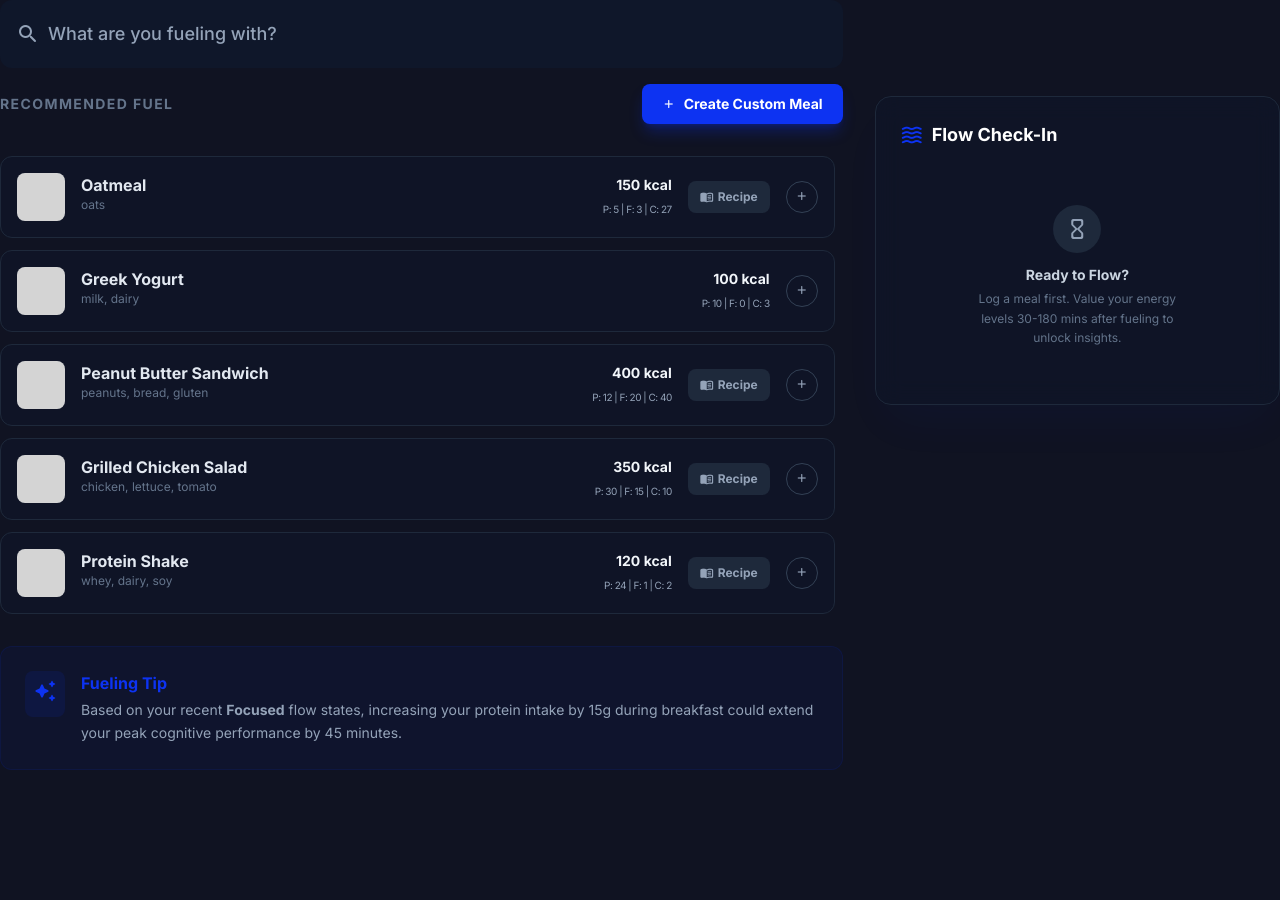
Test: FoodLogger Component › Interactions › shows premium gate when clicking "Create Custom Meal" as Free user
This screenshot has width=1280, height=900.
Click the button "Create Custom Meal".
click(742, 104)  # box 642,84 -> 843,124
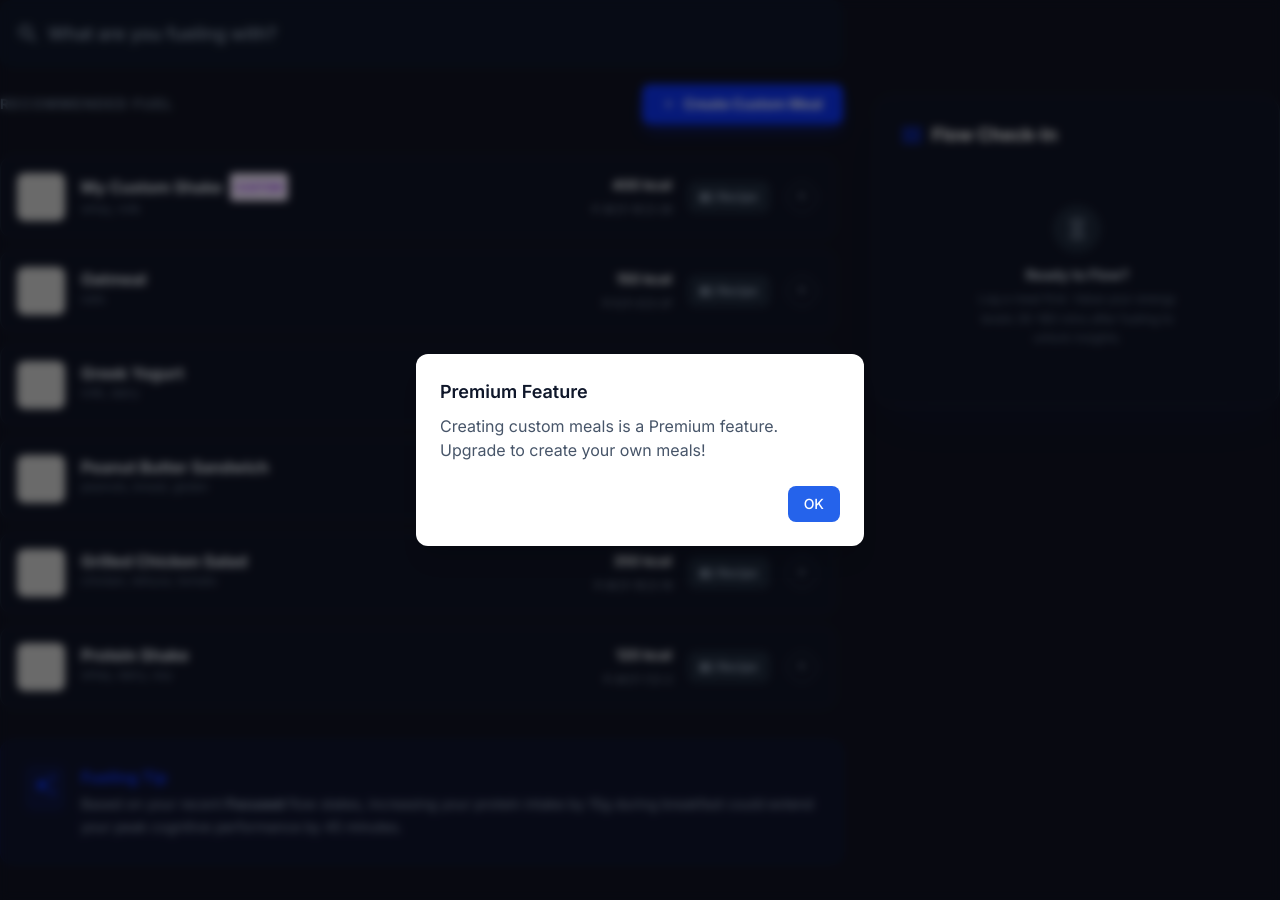
Expected: the heading "Premium Feature" is shown, 440,381 -> 588,402
